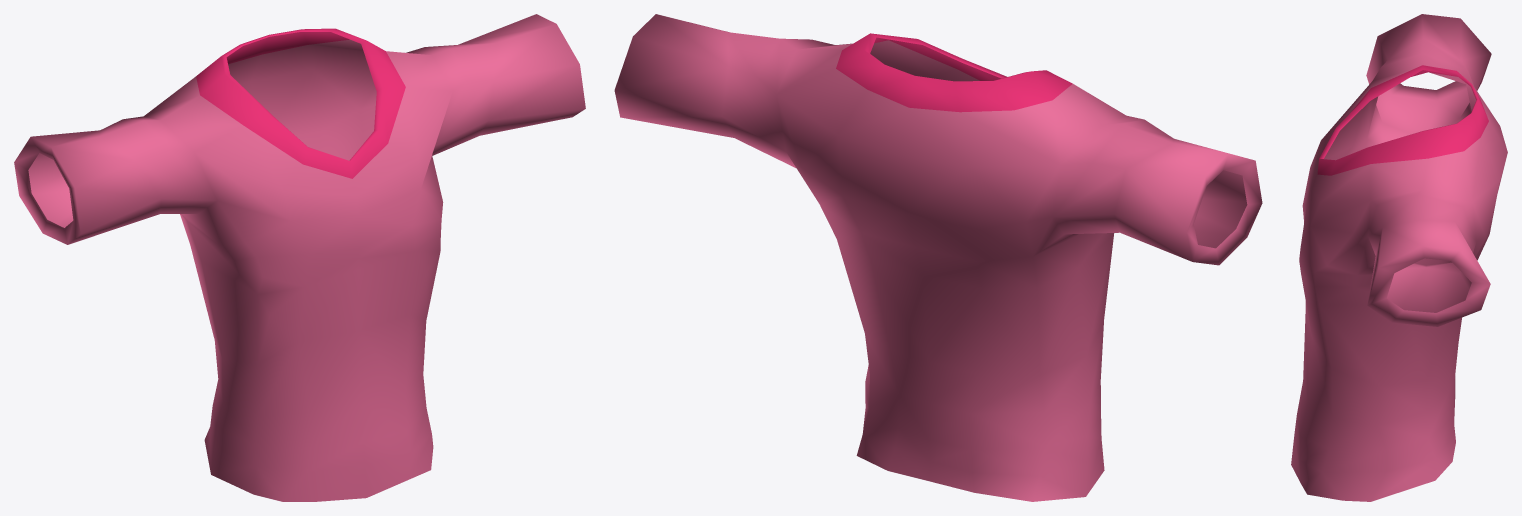
File: Shirt_Griffin04.fbx
3 views of the same model, side by side, from view 1: azimuth 30°, elevation 25°; view 2: azimuth 150°, elevation 25°; view 3: azimuth 270°, elevation 25° (orthographic). The views are drawn at different scales.
Visible parts, largest first — view 1: Shirt_Griffin04; view 2: Shirt_Griffin04; view 3: Shirt_Griffin04.
Boxes of the visible parts, left/top/right/bottom form: Shirt_Griffin04: left=14, top=14, right=585, bottom=501; Shirt_Griffin04: left=614, top=14, right=1262, bottom=501; Shirt_Griffin04: left=1291, top=14, right=1507, bottom=501.
Size of the model in its own units: 75.57 by 55.92 by 29.88.
